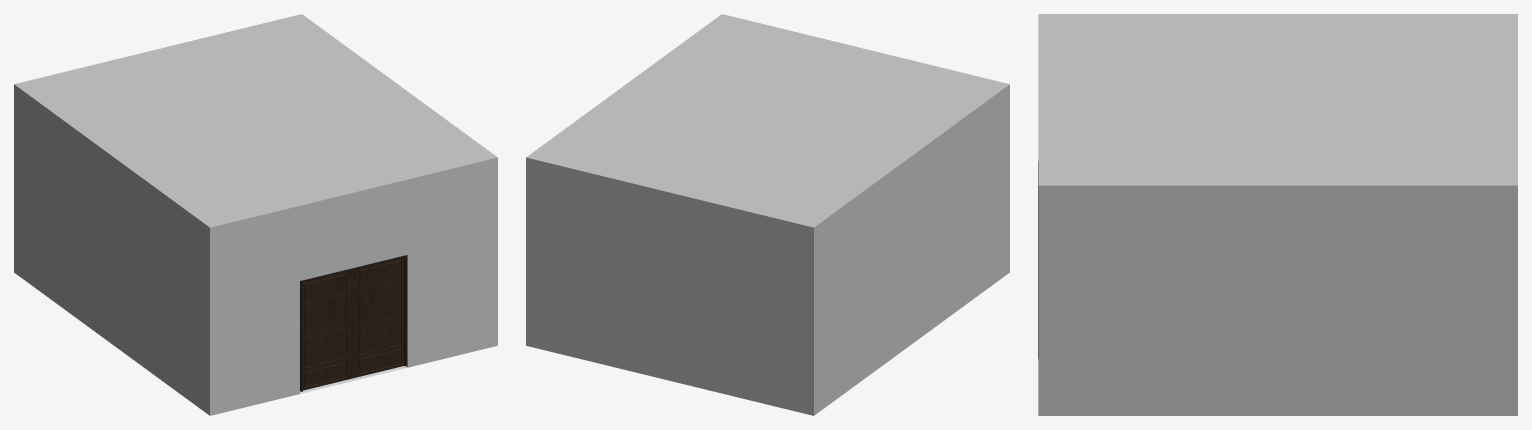
The model's file is Museum updated.fbx.
The picture shows the model from 3 angles, left to right: view 1: azimuth 30°, elevation 25°; view 2: azimuth 150°, elevation 25°; view 3: azimuth 270°, elevation 25°; orthographic projection. The views are drawn at different scales.
Parts seen in each view (by area): view 1: Cube, Cube.004; view 2: Cube; view 3: Cube.
Part boxes in pixels (x1,y1,x2,y2): Cube: [14, 14, 497, 415]; Cube.004: [300, 255, 406, 391]; Cube: [526, 14, 1009, 415]; Cube: [1038, 14, 1517, 415].
Bounding box in the file's own units: 816 × 510 × 963.
